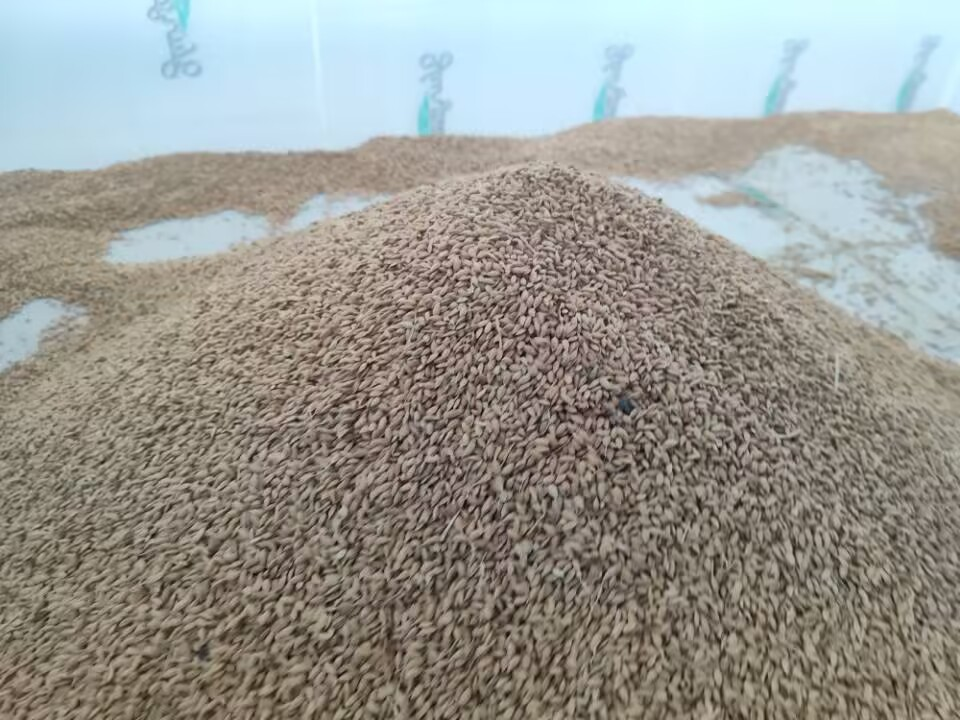Grain: (98, 146, 894, 664)
